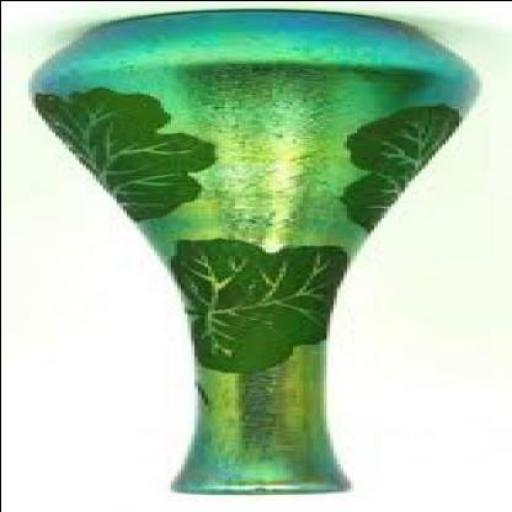glass: (27, 10, 475, 496)
